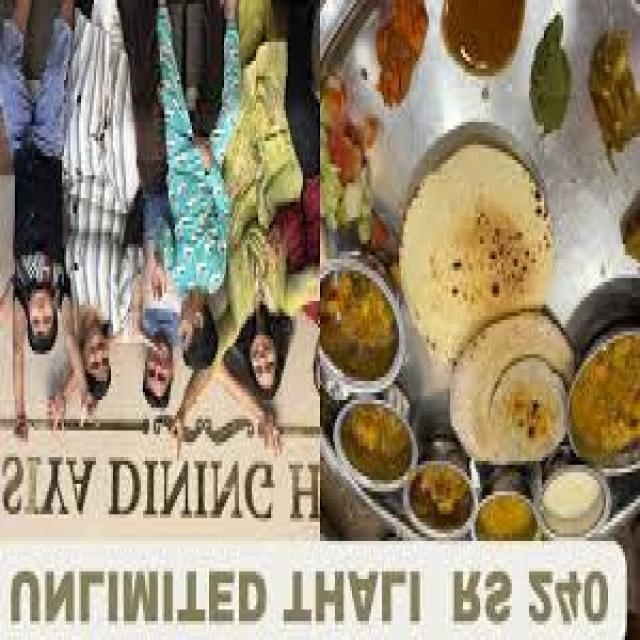papad: (398, 139, 556, 359)
pickle: (357, 2, 436, 116)
sambar-rasam: (473, 487, 544, 543)
sweet: (410, 460, 476, 534)
veg-fry: (571, 324, 639, 470)
